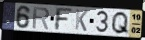3: (95, 10, 111, 35)
6: (16, 5, 32, 30)
F: (54, 6, 74, 32)
K: (74, 9, 89, 32)
Q: (110, 11, 130, 36)
R: (32, 6, 51, 30)
